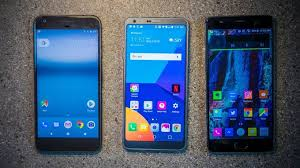lg: (31, 12, 103, 155), (121, 10, 193, 153), (205, 12, 277, 155)
